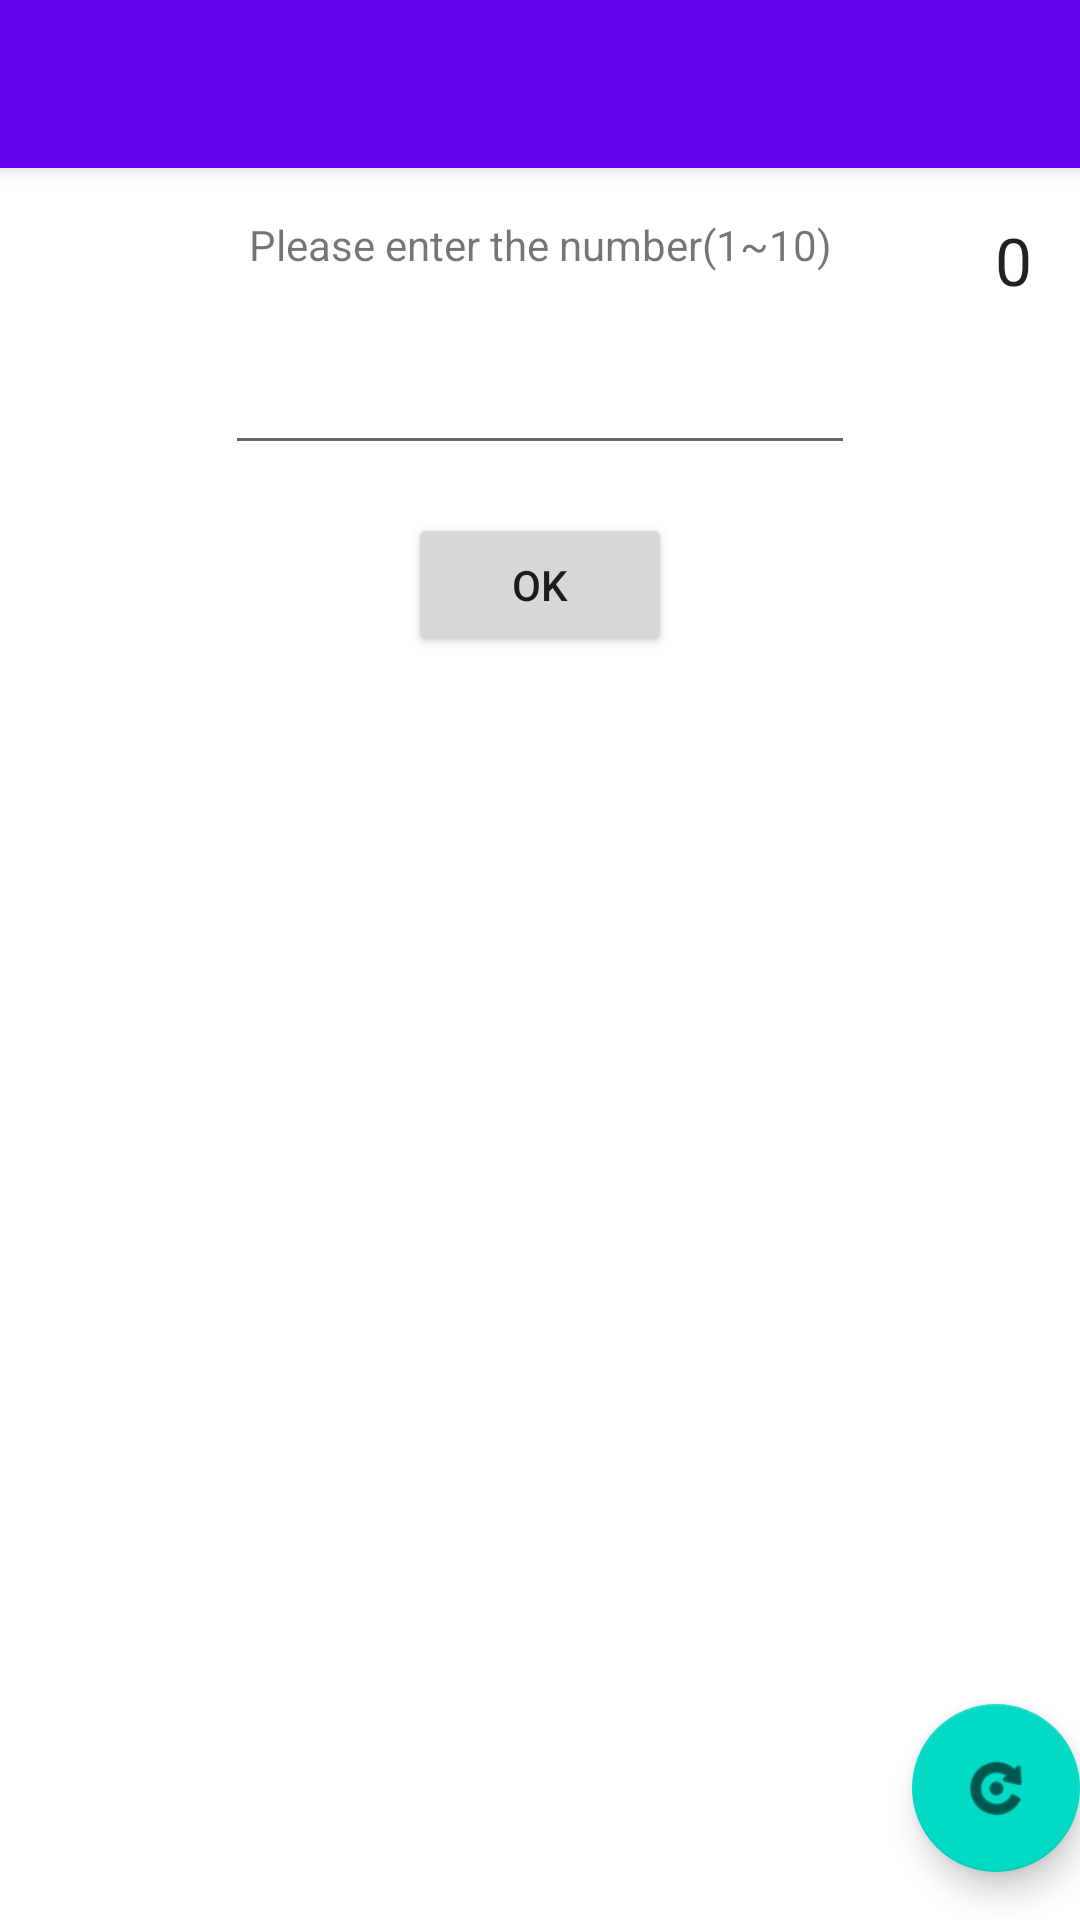

Icon click points for this 1080*1920 phone screenshot, format point (x, y):
rotate: point (996, 1788)
